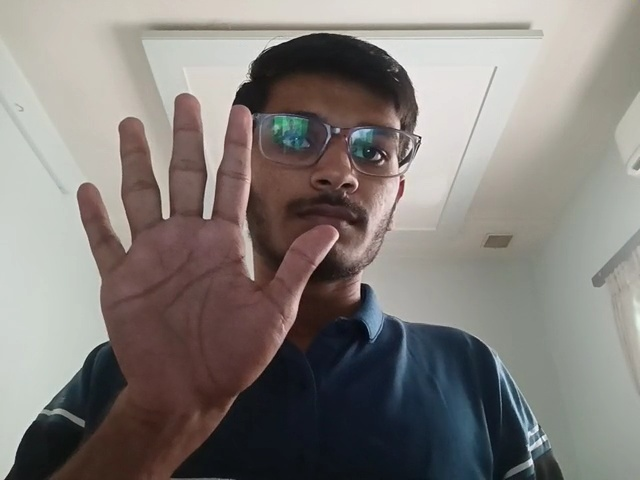Hello: (72, 90, 340, 424)
